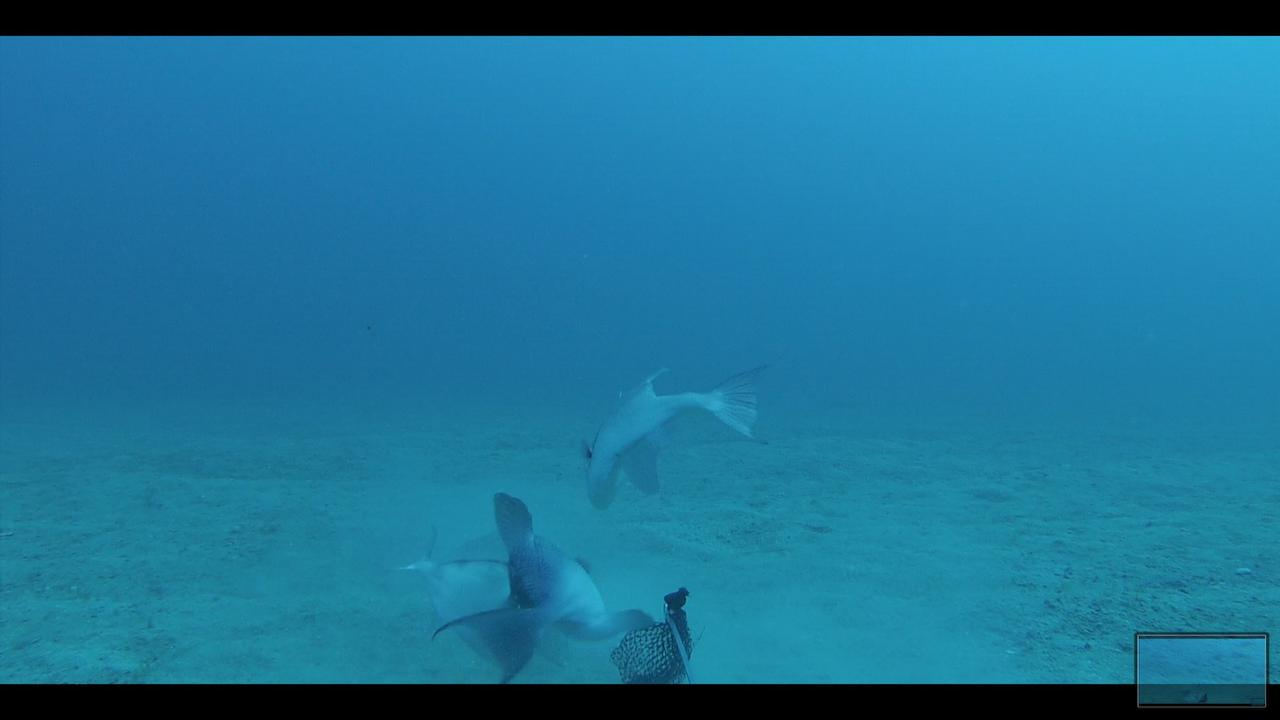balistes: (422, 480, 659, 681), (566, 354, 775, 511), (390, 517, 572, 676)
